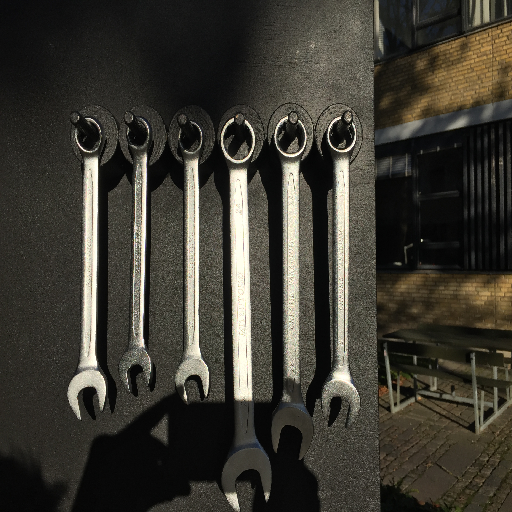bottom: (219, 441, 273, 512), (269, 395, 316, 460), (65, 364, 111, 423), (320, 371, 363, 430), (174, 356, 212, 406), (118, 345, 153, 395)
top: (219, 116, 256, 167), (271, 114, 308, 161), (71, 115, 108, 159), (324, 114, 359, 158), (175, 118, 206, 160), (123, 115, 155, 155)
